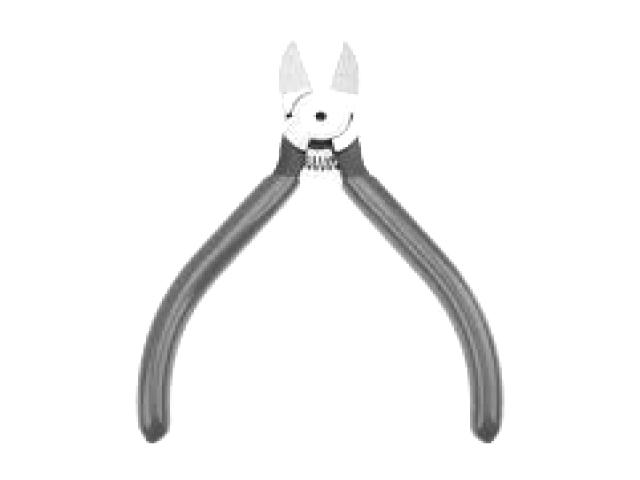Cutting pliers: (138, 40, 501, 443)
